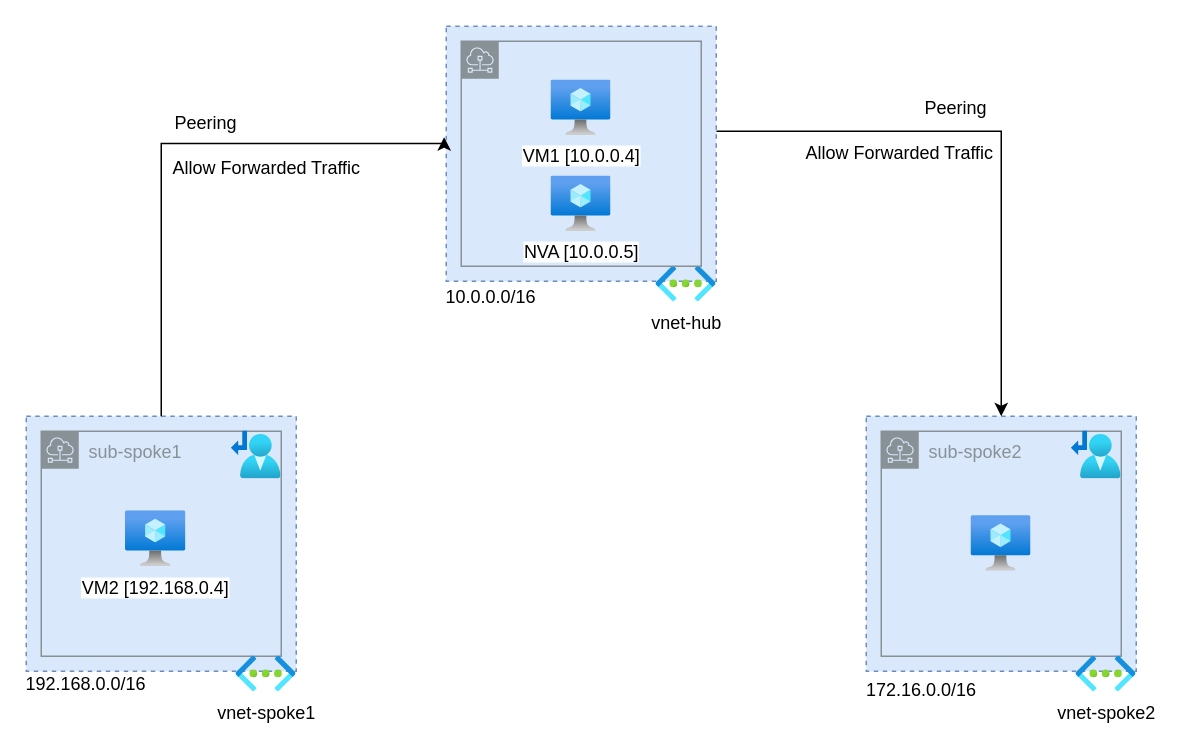
Some shapes in this 1181 by 750 pixel diagram are drawn without their labels. Each missing label, with the box of its shape:
rt-spoke1: (231, 430, 280, 478)
rt-spoke2: (1071, 430, 1120, 478)
sub-hub: (460, 40, 701, 266)
VM3 [172.16.0.04]: (970, 515, 1030, 571)
